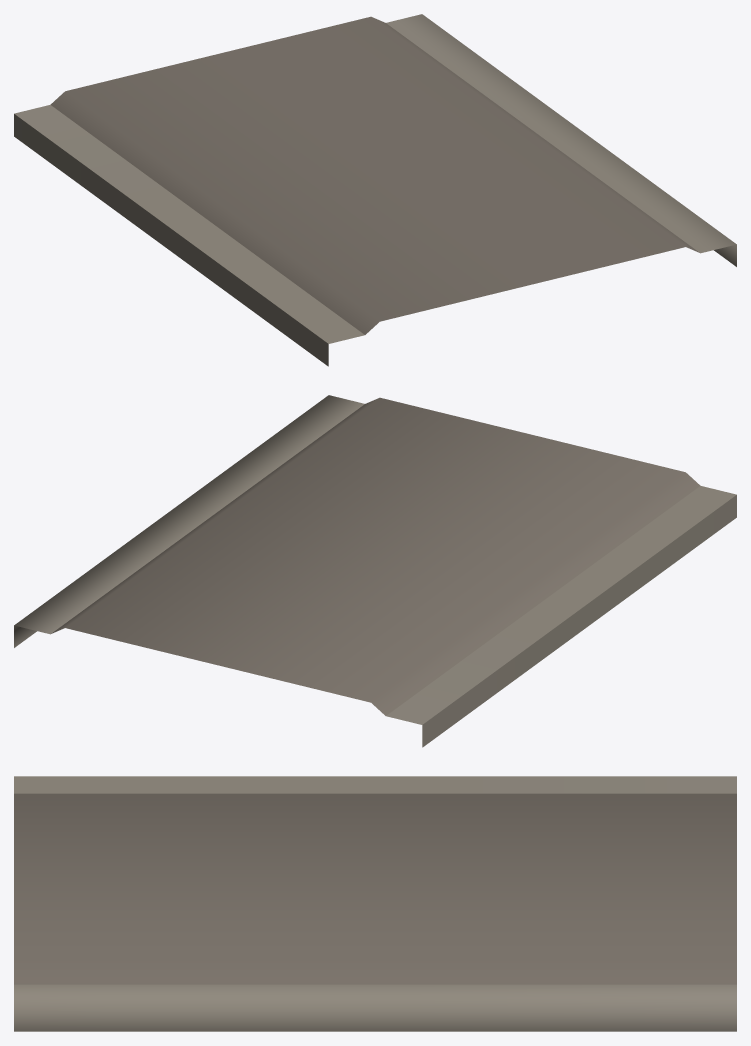
Rendered from RoadMid_1_C.fbx.
The picture shows the model from 3 angles, top to bottom: view 1: azimuth 30°, elevation 25°; view 2: azimuth 150°, elevation 25°; view 3: azimuth 270°, elevation 25°; orthographic projection. The views are drawn at different scales.
Visible parts, largest first — view 1: RoadMid_1_C; view 2: RoadMid_1_C; view 3: RoadMid_1_C.
Part boxes in pixels (x1,y1,x2,y2): RoadMid_1_C: [14, 14, 736, 366]; RoadMid_1_C: [14, 395, 736, 747]; RoadMid_1_C: [14, 776, 736, 1031].
Bounding box in the file's own units: 299 × 22.96 × 400.
